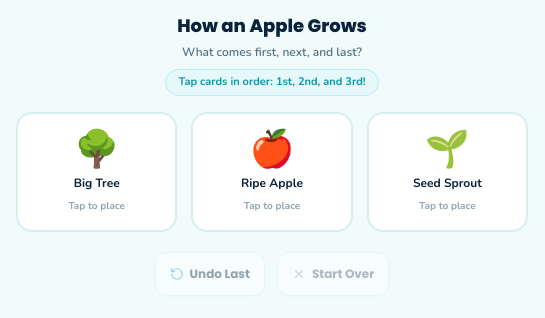
Test: Story Puzzle Step 3: Gameplay & Interaction › StoryPuzzleRound — Card Selection › 34. selecting a card shows Step 1 badge on that card
Click the first card in the DOM (any card)
Click the button with test id "story-card-sp-1-tree": [97, 172] box [16,112,177,232]
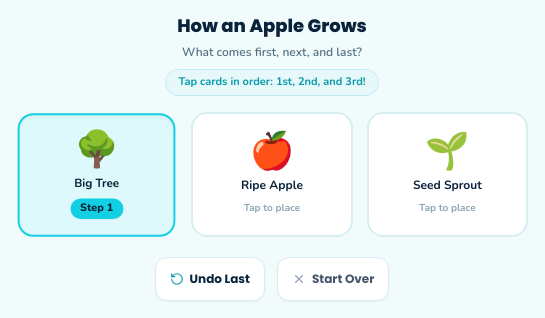
Check: the text with test id "step-badge-sp-1-tree" reads "Step 1", box [70,198,123,218]
